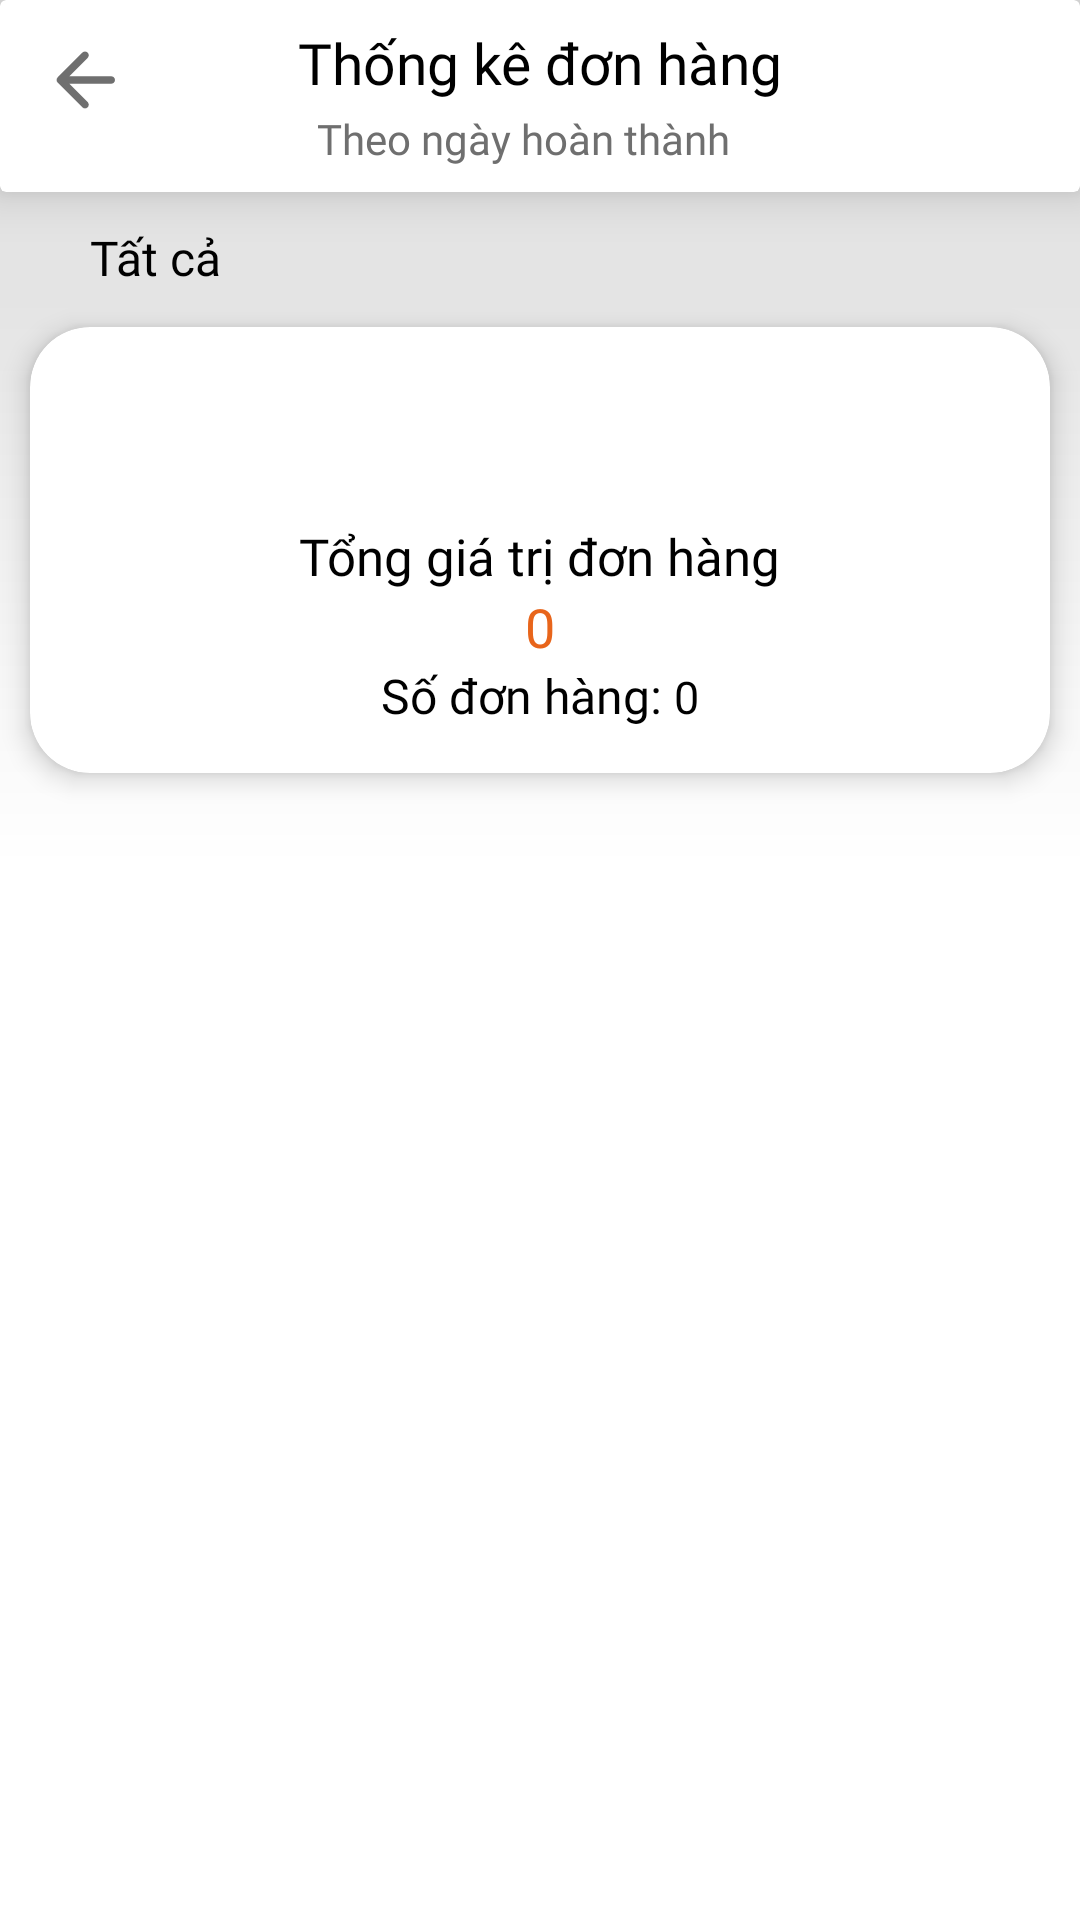

Screen size 1080w x 1920h. Icon name, then its center in pixels as (x,y):
arrow back: (85,80)
